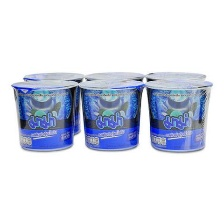paper_cup: (7, 67, 88, 156), (74, 67, 149, 156), (143, 67, 215, 156)
